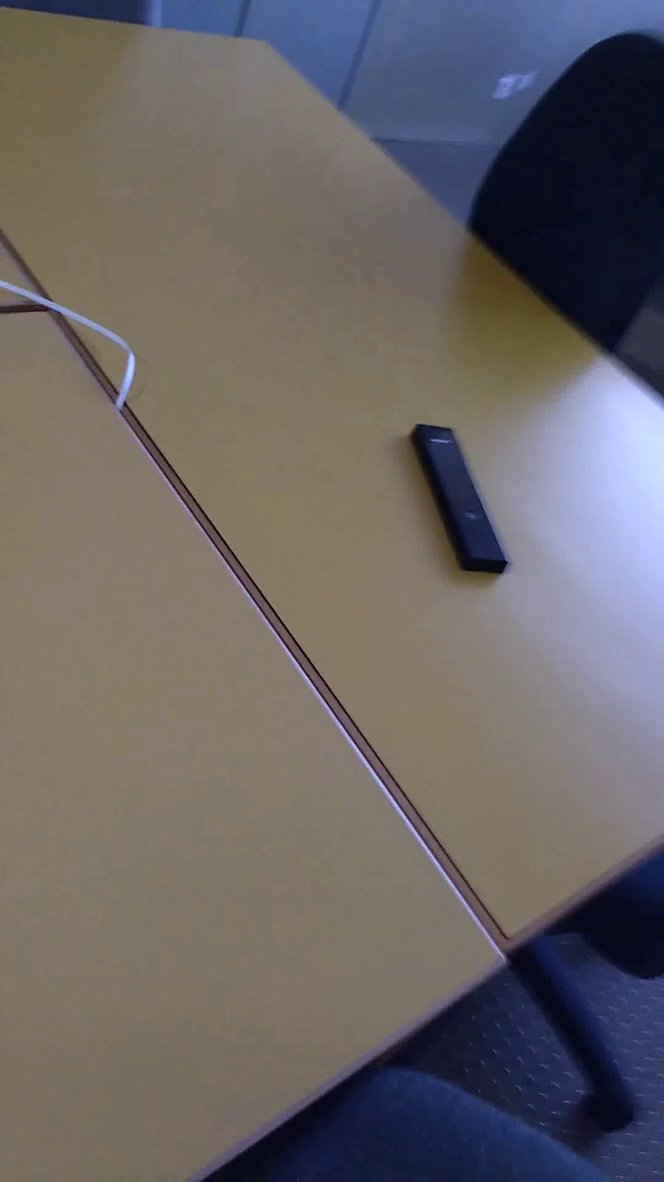remote: (402, 408, 508, 594)
